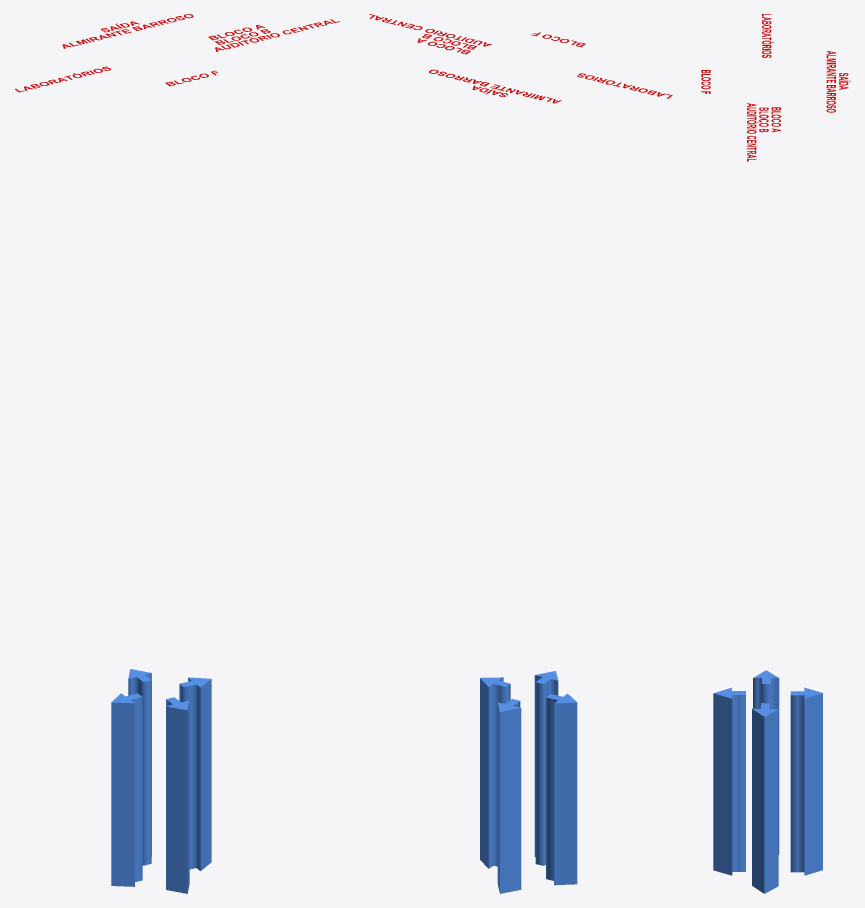
File: Seta bloco C - 1.glb
3 renders of one model, left to right at view 1: azimuth 30°, elevation 25°; view 2: azimuth 150°, elevation 25°; view 3: azimuth 270°, elevation 25°, orthographic. The views are drawn at different scales.
Parts seen in each view (by area): view 1: Curve.001, Curve.004, Curve.003, Curve.006; view 2: Curve.001, Curve.006, Curve.003, Curve.004; view 3: Curve.006, Curve.004, Curve.003, Curve.001, Text.001, Text.004.
Boxes of the visible parts, x1=… form: Curve.001: x1=111, y1=693, x2=142, y2=886; Curve.004: x1=166, y1=697, x2=189, y2=893; Curve.003: x1=179, y1=677, x2=211, y2=870; Curve.006: x1=128, y1=669, x2=151, y2=865; Curve.001: x1=546, y1=693, x2=577, y2=885; Curve.006: x1=497, y1=699, x2=521, y2=893; Curve.003: x1=480, y1=677, x2=510, y2=868; Curve.004: x1=534, y1=671, x2=558, y2=865; Curve.006: x1=790, y1=687, x2=822, y2=875; Curve.004: x1=713, y1=687, x2=745, y2=875; Curve.003: x1=752, y1=703, x2=778, y2=893; Curve.001: x1=753, y1=670, x2=779, y2=854; Text.001: x1=826, y1=51, x2=835, y2=112; Text.004: x1=747, y1=103, x2=758, y2=161.
Bounding box in the file's own units: 0.2355 × 0.5868 × 0.1008.
